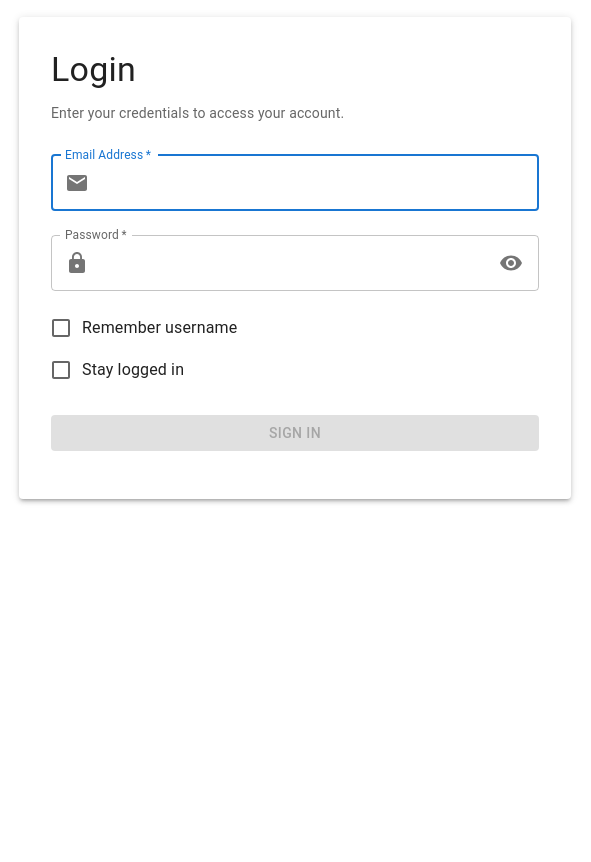
Test: Login Page › shows permission message on 403
Type "john@example.com" into the field with id "email" at (318, 183), box [97,155,539,211]
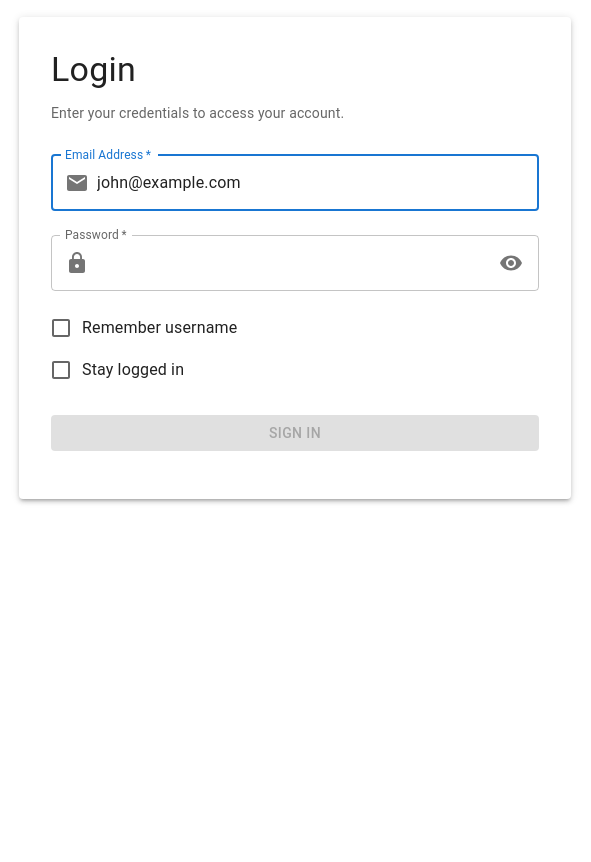
Type "bad" into the password field labelled "Password *" at (292, 263), box [97,235,486,291]
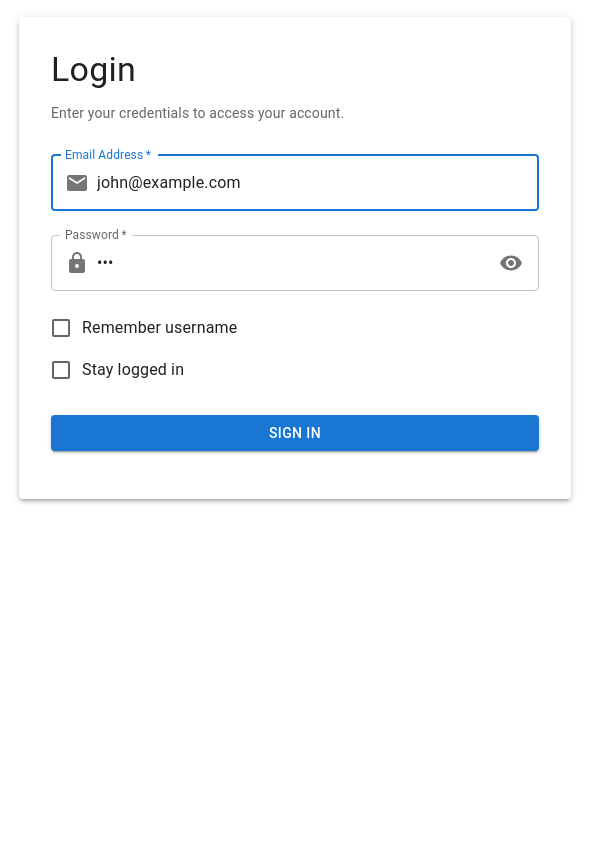
Click the button "Sign In" at (295, 433), box [51,415,539,451]
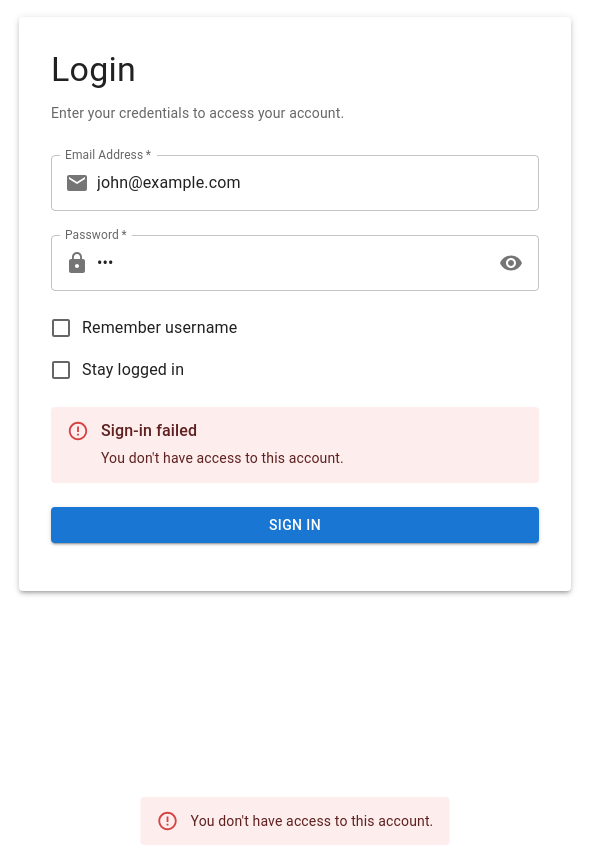
Result: the text "You don't have access to this account." is shown at [101,450,344,466]
